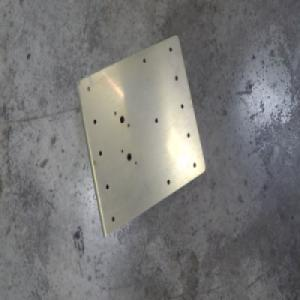MetalSheet: (74, 32, 207, 241)
